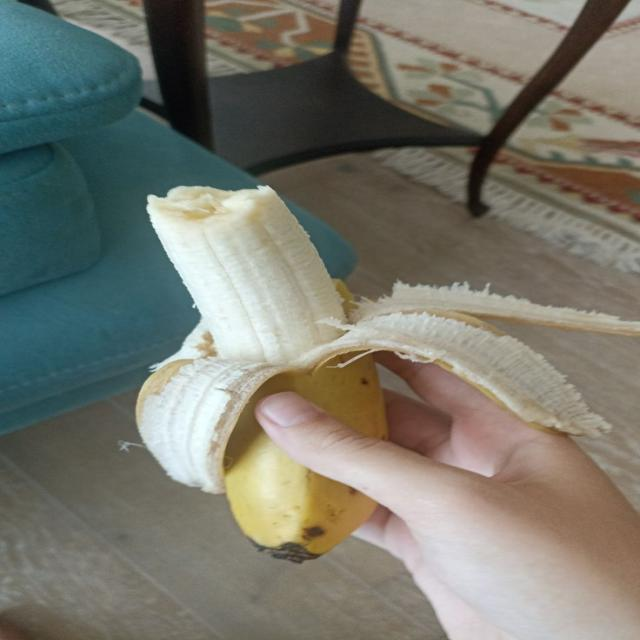banana: (138, 187, 639, 561), (226, 355, 386, 562)
